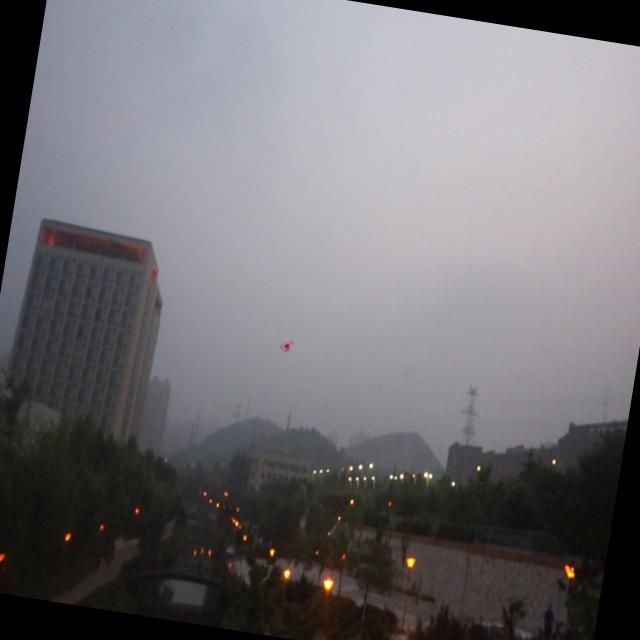drone: (280, 336, 294, 356)
